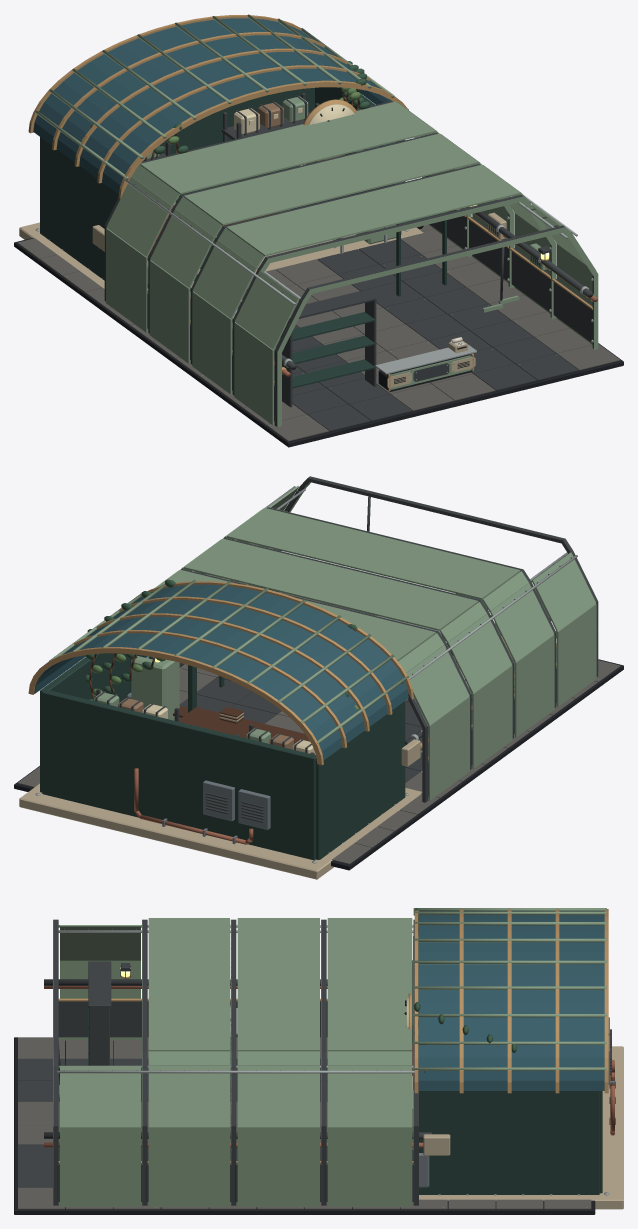
Rendered from verdanthia-depot.glb.
The picture shows the model from 3 angles, top to bottom: view 1: azimuth 30°, elevation 25°; view 2: azimuth 150°, elevation 25°; view 3: azimuth 270°, elevation 25°; orthographic projection. The views are drawn at different scales.
Visible parts, largest first — view 1: verdanthia-depot; view 2: verdanthia-depot; view 3: verdanthia-depot.
Part boxes in pixels (bbox=[...]): verdanthia-depot: bbox=[14, 14, 623, 447]; verdanthia-depot: bbox=[14, 476, 623, 879]; verdanthia-depot: bbox=[14, 908, 623, 1214].
Size of the model in its own units: 17.08 by 8.91 by 25.4.
23 materials, 19 textured.
